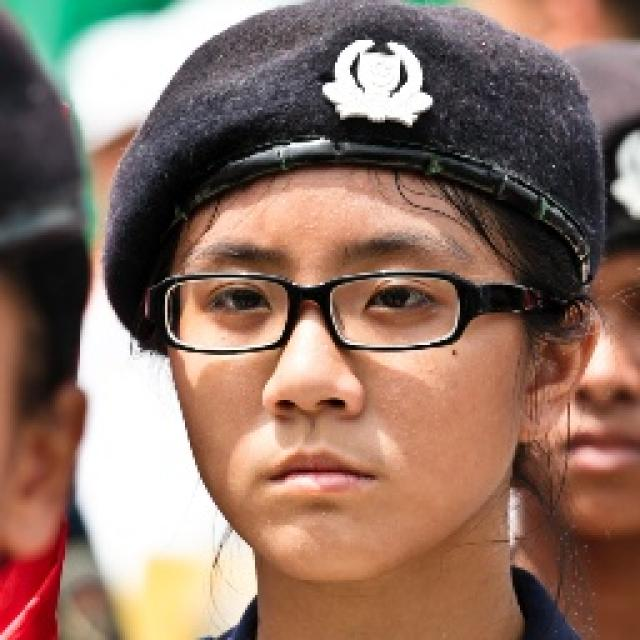earlobe: (516, 298, 602, 444)
